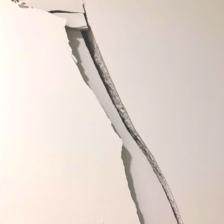High: (8, 1, 186, 224)
